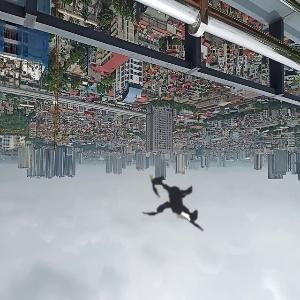drone: (115, 146, 237, 268)
